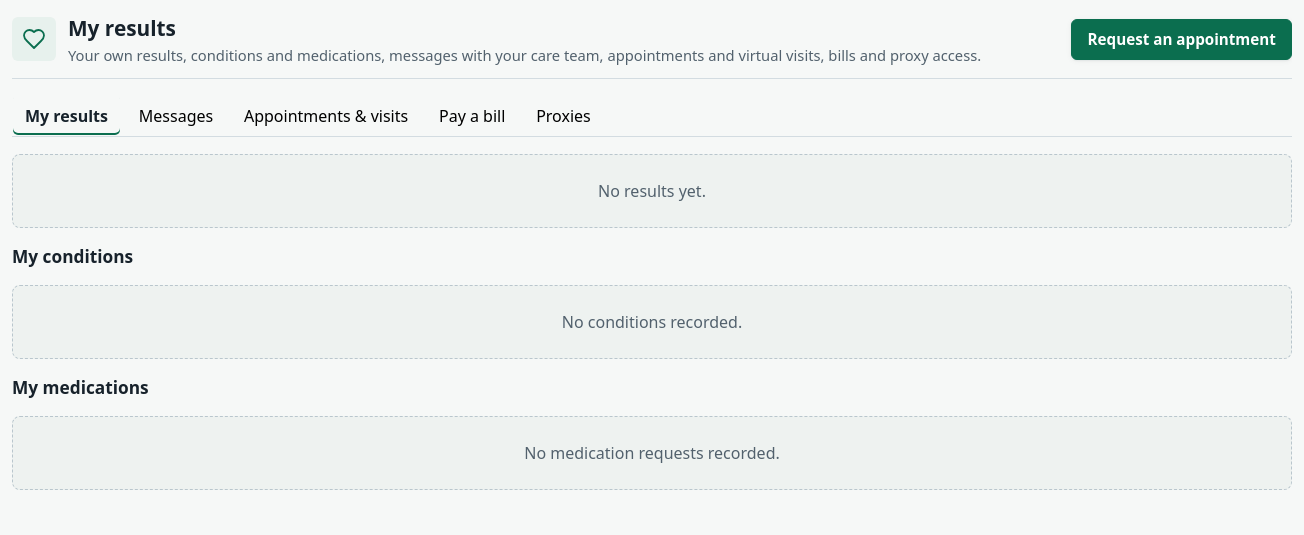
PortalPage access services (BD-22 / BD-23) › renders the bill-pay and proxy sections
Click the tab "Pay a bill". click: (472,116)
box: x1=426 y1=95 x2=518 y2=136
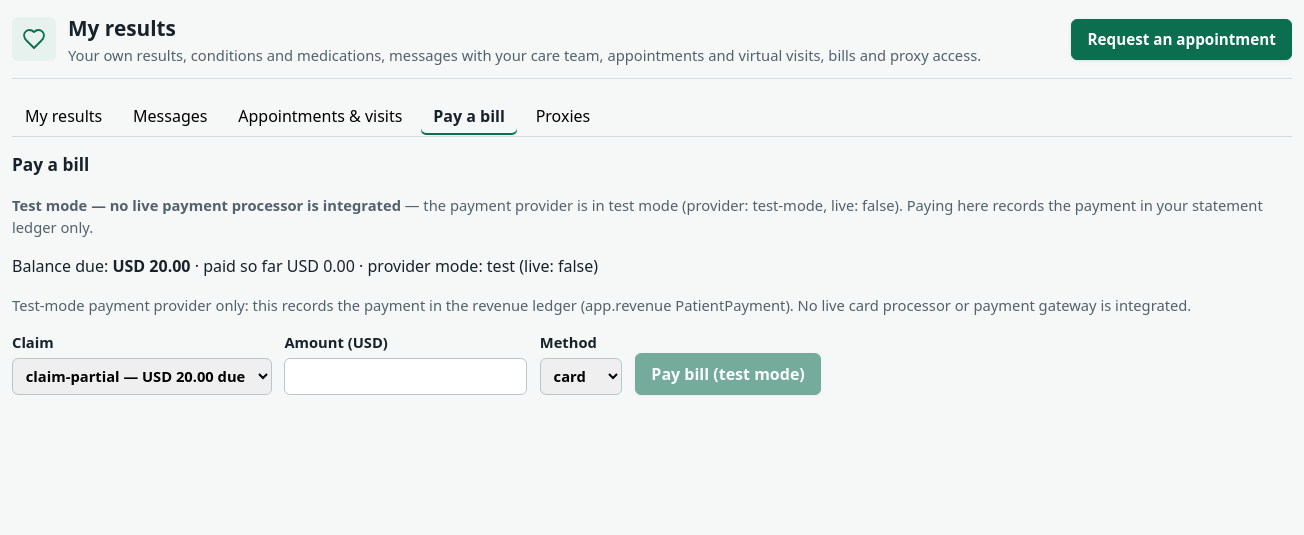
expect the heading "Pay a bill" is shown: met, box x1=12 y1=153 x2=89 y2=176
expect the text "Test mode — no live payment processor is integrated" is shown: met, box x1=12 y1=195 x2=401 y2=215
Click the tab "Proxies". click: (563,116)
box: x1=523 y1=95 x2=603 y2=136
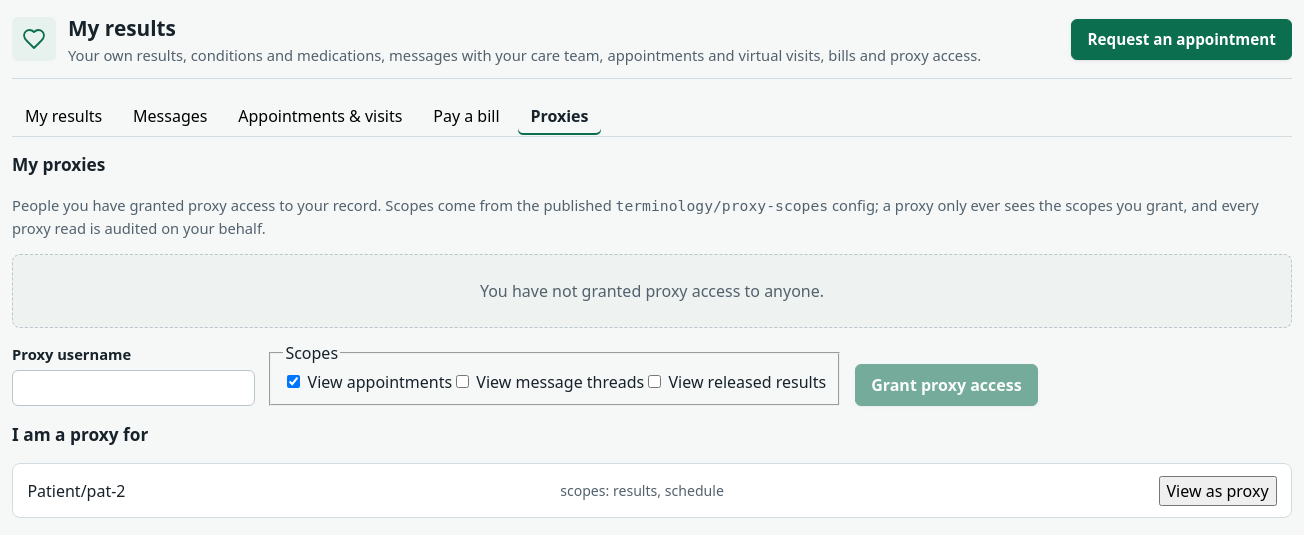
expect the heading "My proxies" is shown: met, box x1=12 y1=153 x2=105 y2=176
expect the heading "I am a proxy for" is shown: met, box x1=12 y1=423 x2=148 y2=446
